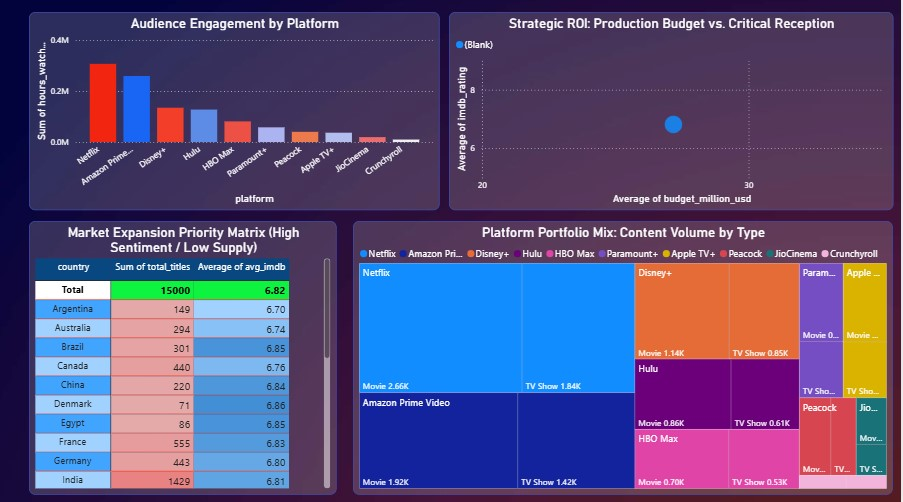

The page's visual inventory and layout, read from the dashboard file:
{"tool":"powerbi","page":{"name":"ROI & Strategy","canvas":[1280,720],"ordinal":1},"visuals":[{"type":"scatterChart","title":"Strategic ROI: Production Budget vs. Critical Reception","fields":{"X":["Avg(titles.budget_million_usd)"],"Y":["Avg(titles.imdb_rating)"],"Series":["genre_benchmarks.primary_genre"],"Size":["Sum(titles.hours_watched_million)"]},"box":[640,22.3,629.6,281.3],"z":0},{"type":"clusteredColumnChart","title":"Audience Engagement by Platform","fields":{"Category":["titles.platform"],"Y":["Sum(titles.hours_watched_million)"]},"box":[44.7,22.3,582,281.3],"z":1000},{"type":"pivotTable","title":"Market Expansion Priority Matrix (High Sentiment / Low Supply)","fields":{"Rows":["country_summary.country"],"Values":["Sum(country_summary.total_titles)","Avg(country_summary.avg_imdb)"]},"box":[44.7,318.5,436.1,388.5],"z":2000},{"type":"treemap","title":"Platform Portfolio Mix: Content Volume by Type","fields":{"Values":["CountNonNull(titles.show_id)"],"Details":["titles.type"],"Group":["titles.platform"]},"box":[504.6,318.5,765,388.5],"z":3000}]}

Visuals, with their boxes in screenshot pixels (x1, y1, x2, y2), scaled from the page's 1280x720 canvas onto the 903x502 screenshot:
"Strategic ROI: Production Budget vs. Critical Reception" scatterChart: left=452, top=16, right=896, bottom=212
"Audience Engagement by Platform" clusteredColumnChart: left=32, top=16, right=442, bottom=212
"Market Expansion Priority Matrix (High Sentiment / Low Supply)" pivotTable: left=32, top=222, right=339, bottom=493
"Platform Portfolio Mix: Content Volume by Type" treemap: left=356, top=222, right=896, bottom=493
